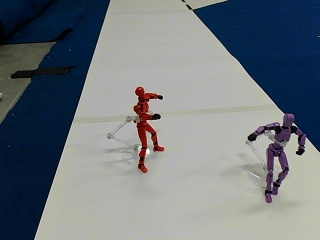pedestrian: (249, 113, 306, 199), (134, 86, 164, 172)
